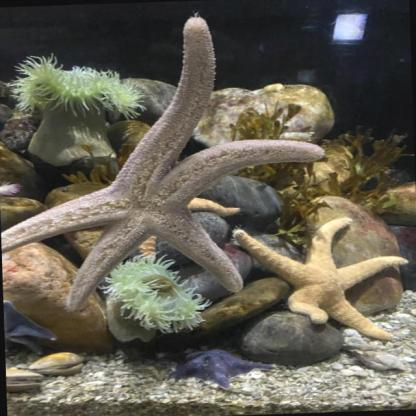starfish: (0, 12, 332, 316), (231, 214, 411, 347)
